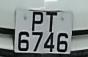4: (43, 31, 56, 54)
6: (17, 30, 31, 53), (56, 32, 71, 53)
7: (30, 30, 45, 54)
P: (29, 10, 46, 33)
T: (43, 10, 60, 32)
